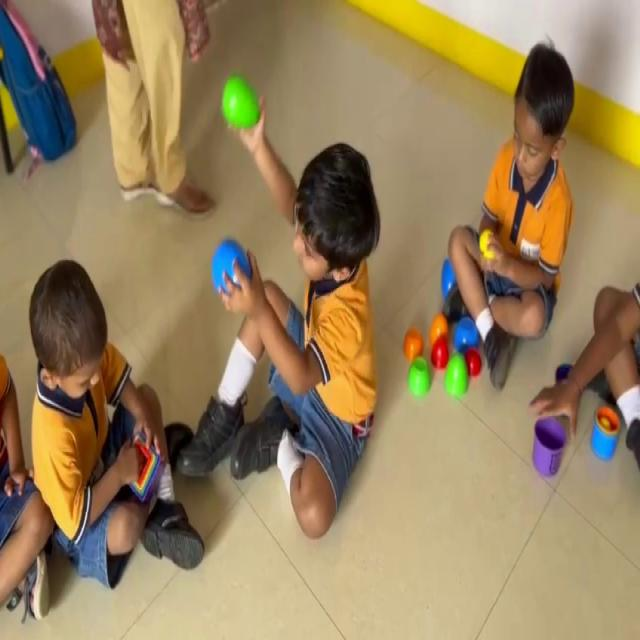child: (132, 42, 386, 570), (412, 84, 578, 423)
